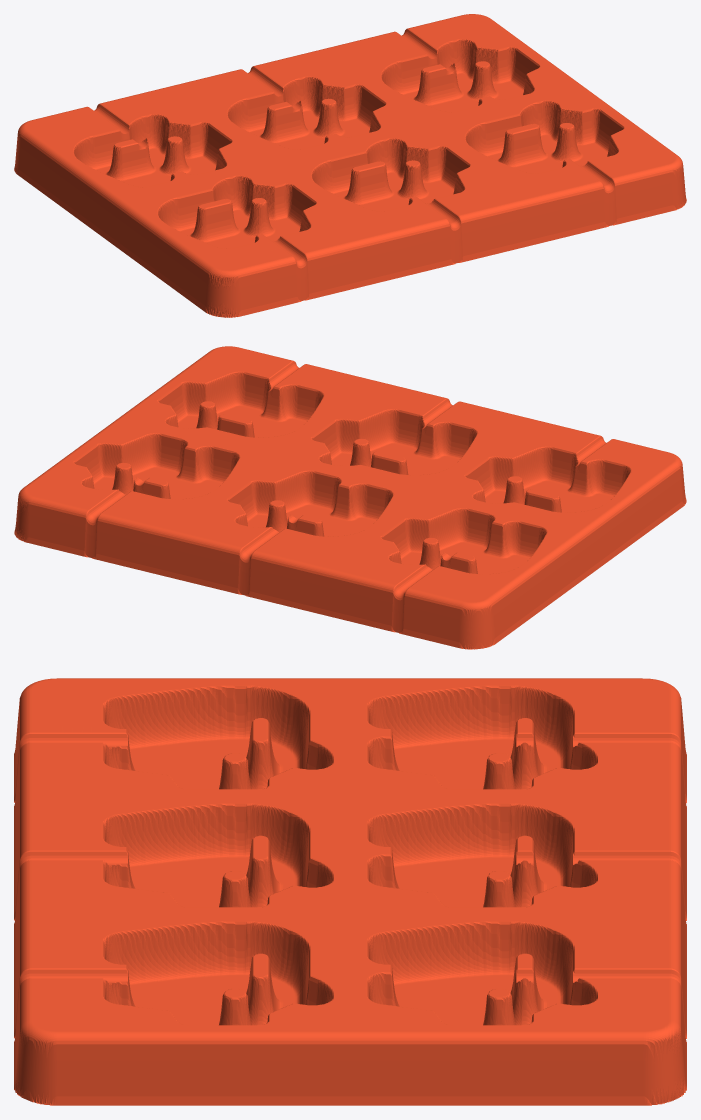
File: mold.glb
3 views of the same model, one above another, from view 1: azimuth 30°, elevation 25°; view 2: azimuth 150°, elevation 25°; view 3: azimuth 270°, elevation 25° (orthographic). The views are drawn at different scales.
Parts seen in each view (by area): view 1: geometry_0; view 2: geometry_0; view 3: geometry_0.
Part boxes in pixels (bbox=[...]): geometry_0: bbox=[14, 14, 686, 317]; geometry_0: bbox=[14, 346, 686, 649]; geometry_0: bbox=[14, 678, 686, 1105].
Bounding box in the file's own units: 0.1824 × 0.0155 × 0.1416.
